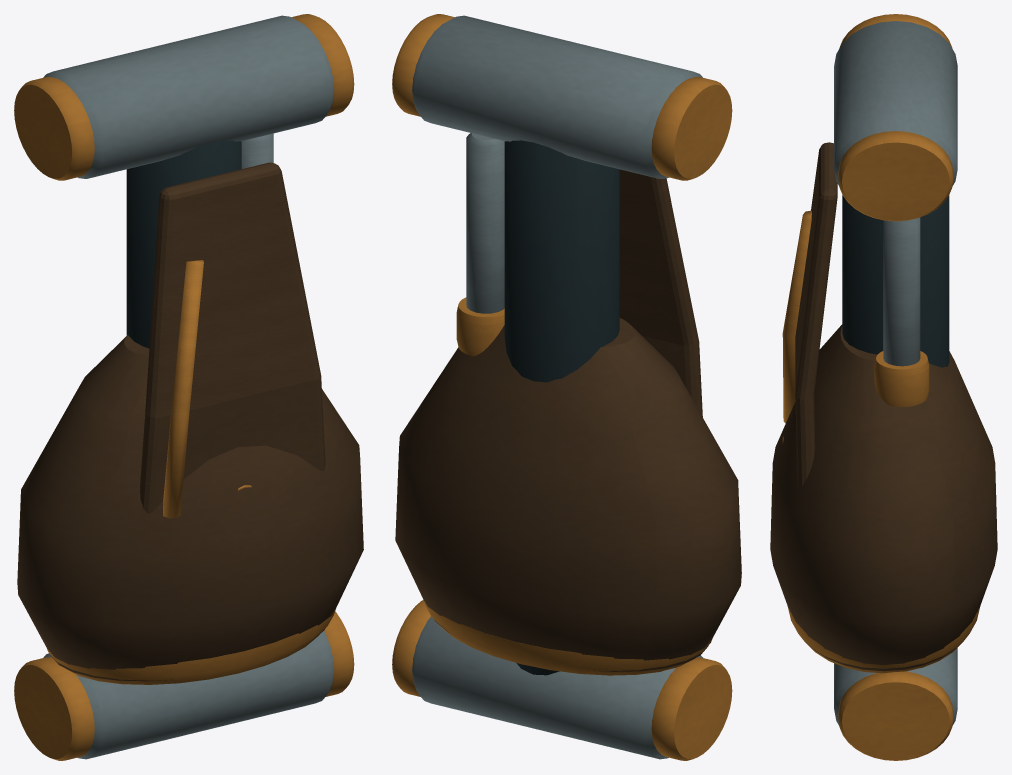
Rendered from EldritchCannonLegUpper.obj.
3 renders of one model, left to right at view 1: azimuth 30°, elevation 25°; view 2: azimuth 150°, elevation 25°; view 3: azimuth 270°, elevation 25°, orthographic. The views are drawn at different scales.
Visible parts, largest first — view 1: EldritchCannonLegUpper; view 2: EldritchCannonLegUpper; view 3: EldritchCannonLegUpper.
Part boxes in pixels (x1,y1,x2,y2): EldritchCannonLegUpper: (14,14,363,760); EldritchCannonLegUpper: (392,14,741,760); EldritchCannonLegUpper: (770,14,997,760).
Size of the model in its own units: 0.5875 by 1.17 by 0.3819.
Materials: 4 (4 with a texture image).
